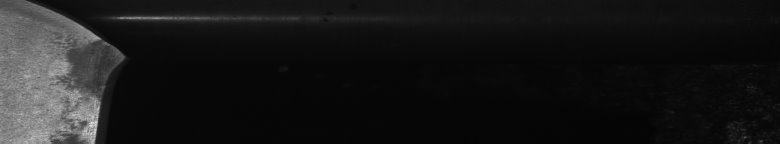kb: (37, 0, 123, 144)
